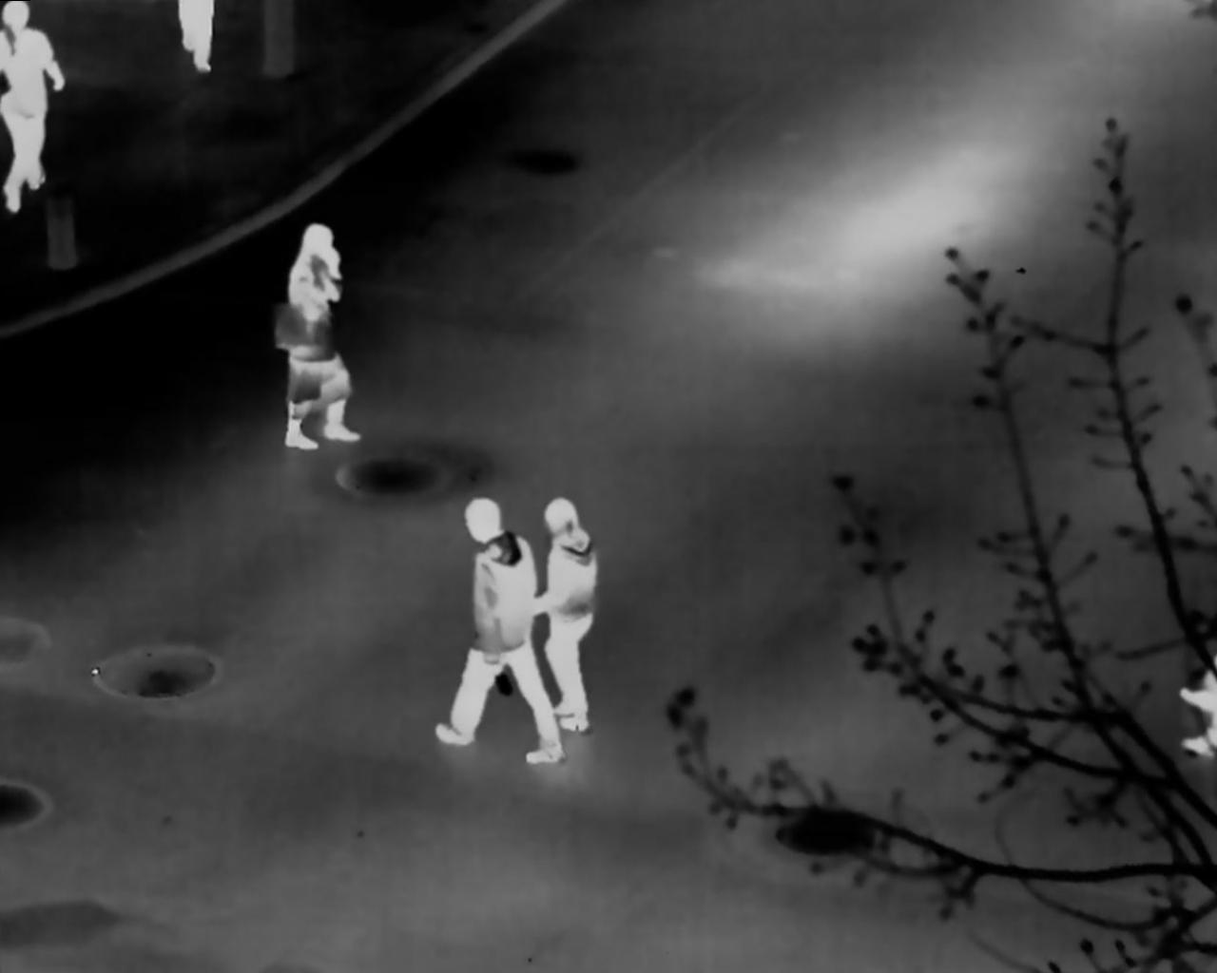person: (431, 496, 562, 769), (272, 222, 359, 452), (526, 494, 596, 732)
